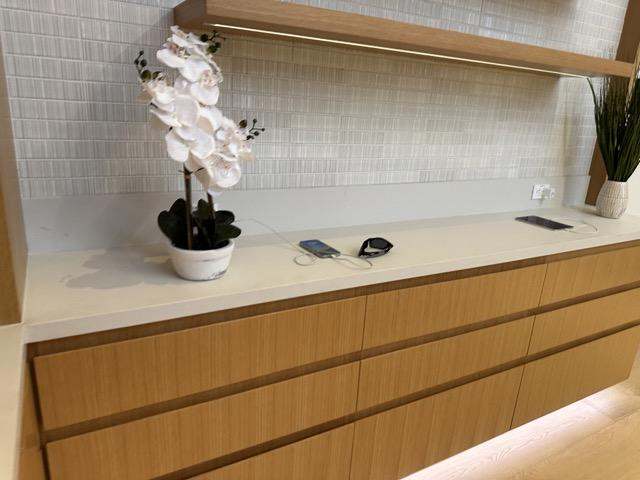Sunglasses: (358, 237, 395, 258)
